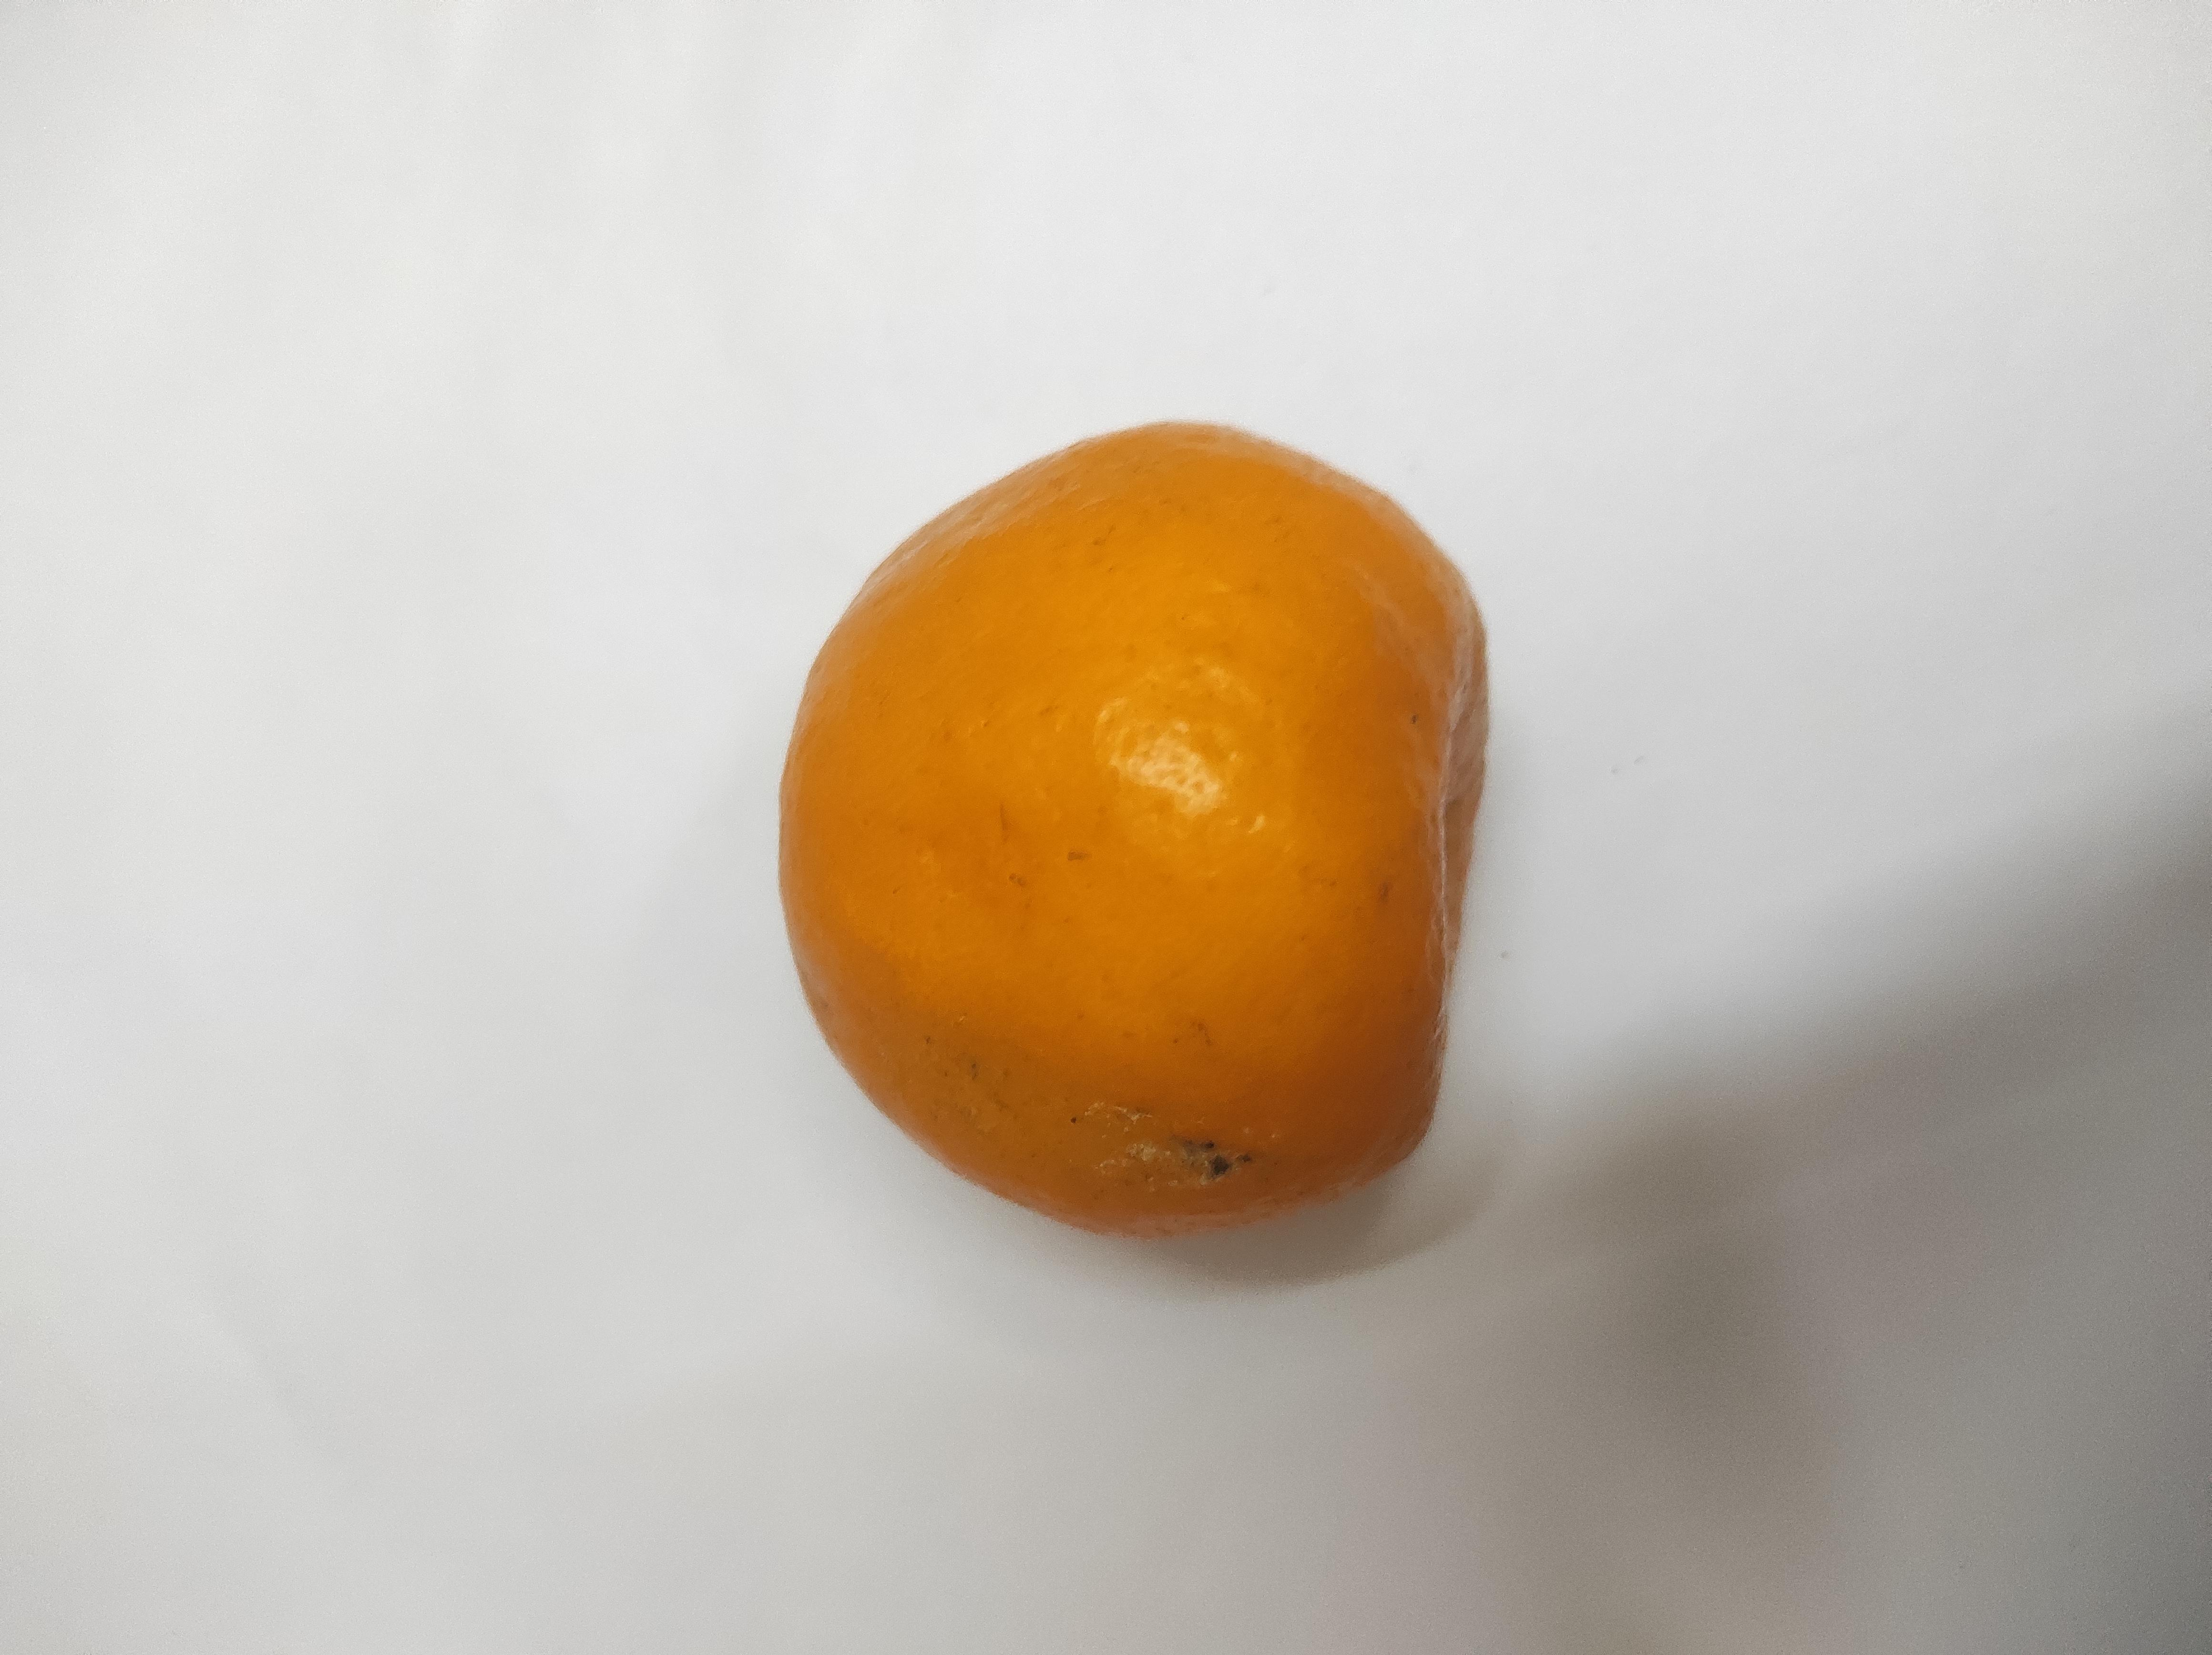Unripe: (762, 419, 1473, 1234)
